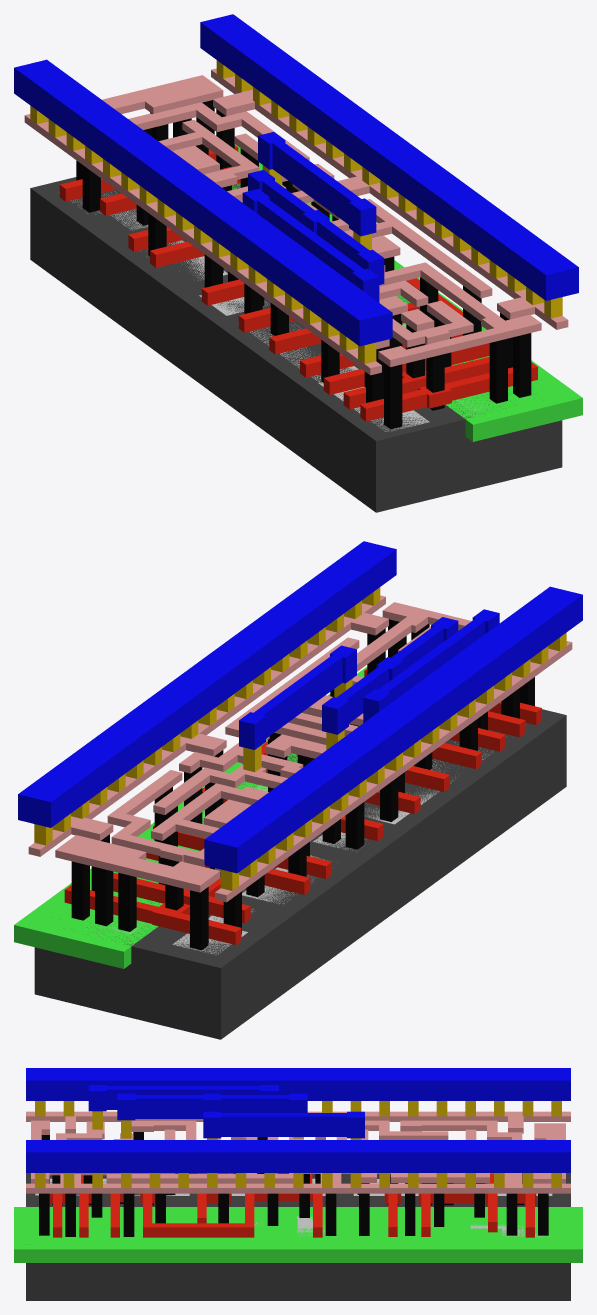
The model's file is sky130_fd_sc_hd__xor3_1.obj.
The picture shows the model from 3 angles, top to bottom: view 1: azimuth 30°, elevation 25°; view 2: azimuth 150°, elevation 25°; view 3: azimuth 270°, elevation 25°; orthographic projection. The views are drawn at different scales.
Visible parts, largest first — view 1: metal1, subs, li, licon, poly, mcon, nwell, diff; view 2: metal1, subs, li, licon, poly, mcon, nwell, diff; view 3: metal1, nwell, subs, li, poly, licon, mcon, tap, diff.
Part boxes in pixels (x1,y1,x2,y2): metal1: (14, 14, 578, 346); subs: (30, 177, 562, 512); li: (24, 68, 568, 375); licon: (76, 100, 531, 429); poly: (59, 145, 537, 421); mcon: (30, 60, 562, 363); nwell: (232, 144, 582, 441); diff: (71, 191, 429, 431); metal1: (18, 541, 582, 873); subs: (34, 709, 566, 1039); li: (28, 595, 572, 902); licon: (71, 619, 534, 950); poly: (64, 668, 541, 944); mcon: (34, 587, 566, 890); nwell: (14, 666, 367, 968); diff: (172, 736, 506, 954); metal1: (26, 1068, 570, 1172); nwell: (14, 1207, 582, 1262); subs: (26, 1173, 570, 1300); li: (26, 1111, 570, 1193); poly: (49, 1173, 536, 1237); licon: (39, 1132, 548, 1236); mcon: (35, 1101, 561, 1187); tap: (254, 1216, 549, 1237); diff: (35, 1178, 552, 1195).
Bounding box in the file's own units: 3.2 × 2.74 × 9.12.
